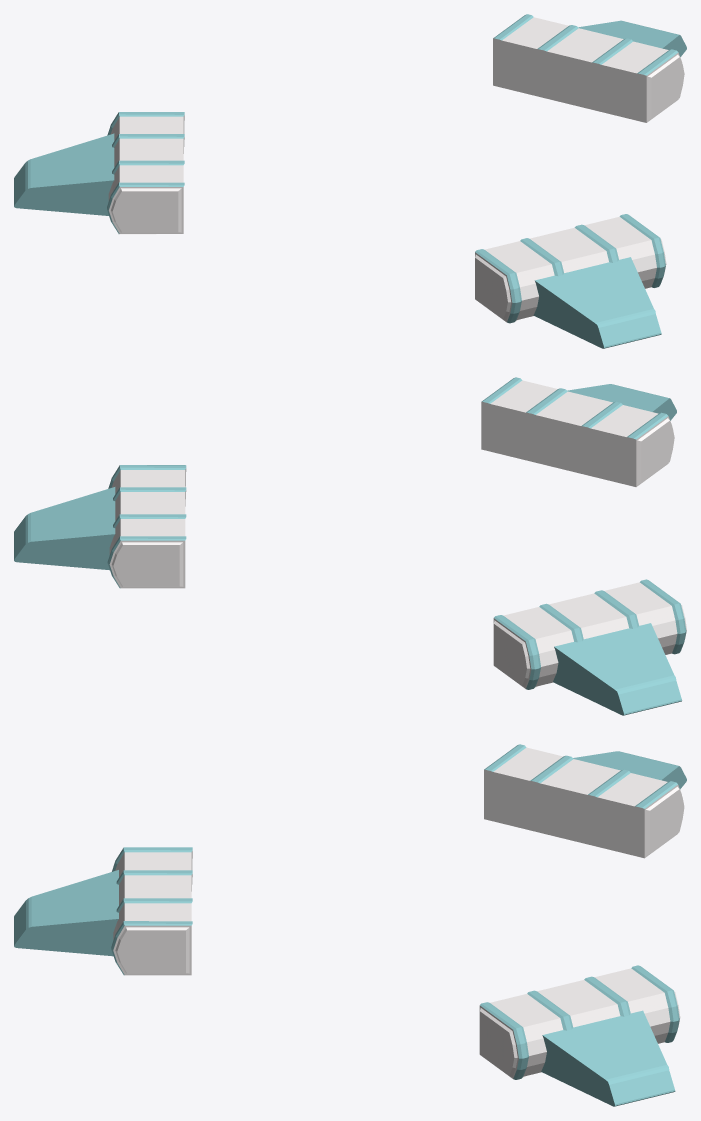
Rendered from ayak.fbx.
The picture shows the model from 3 angles, top to bottom: view 1: azimuth 30°, elevation 25°; view 2: azimuth 150°, elevation 25°; view 3: azimuth 270°, elevation 25°; orthographic projection. The views are drawn at different scales.
Parts seen in each view (by area): view 1: Cylinder.001; view 2: Cylinder.001; view 3: Cylinder.001.
Part boxes in pixels (box(x1,y1,x2,y2)): Cylinder.001: box(14, 14, 686, 348); Cylinder.001: box(14, 377, 686, 715); Cylinder.001: box(14, 744, 686, 1106).
Size of the model in its own units: 1996 by 141 by 1665.
